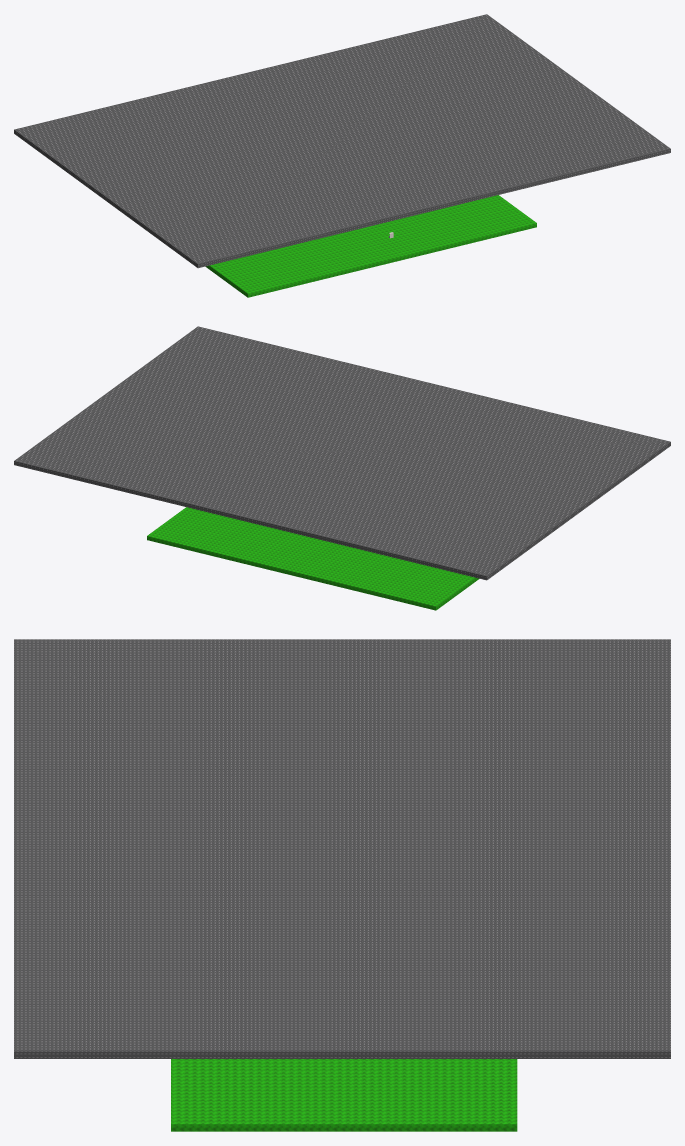
The model's file is AfterRac_brush.glb.
3 views of the same model, one above another, from view 1: azimuth 30°, elevation 25°; view 2: azimuth 150°, elevation 25°; view 3: azimuth 270°, elevation 25° (orthographic). The views are drawn at different scales.
Parts seen in each view (by area): view 1: AfterRac; view 2: AfterRac; view 3: AfterRac.
Part boxes in pixels (box(x1,y1,x2,y2)): AfterRac: box(14, 14, 670, 297); AfterRac: box(14, 326, 670, 610); AfterRac: box(14, 639, 670, 1131).
Bounding box in the file's own units: 30978 × 5550 × 20868.
Materials: 4 (4 with a texture image).
